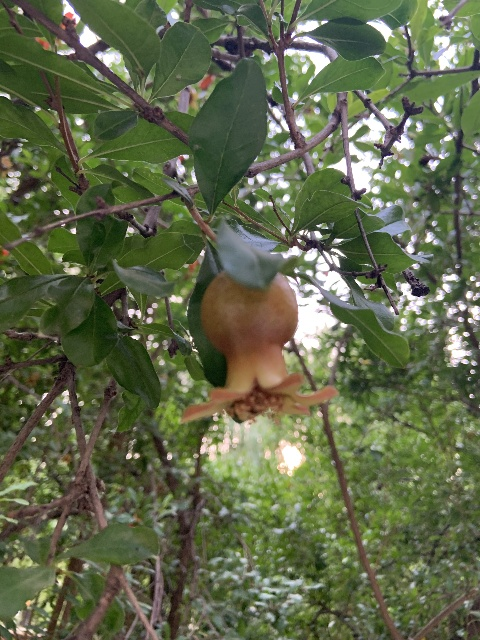early-fruit: (182, 269, 338, 427)
